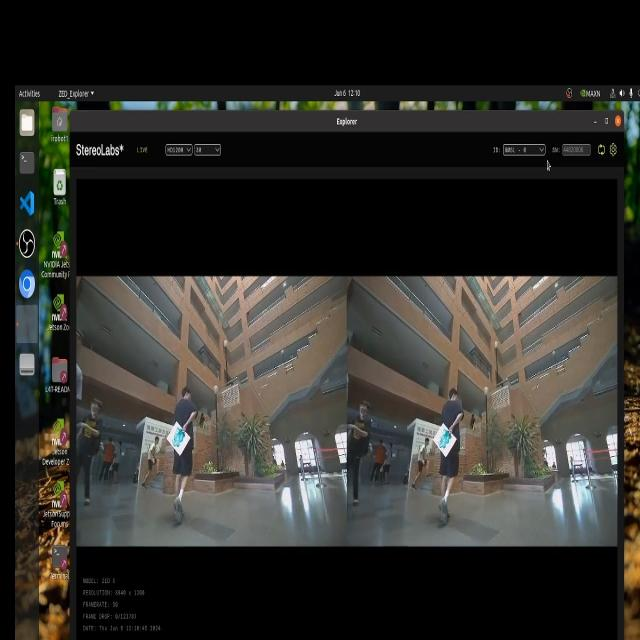green: (171, 421, 188, 456), (439, 429, 452, 455)
